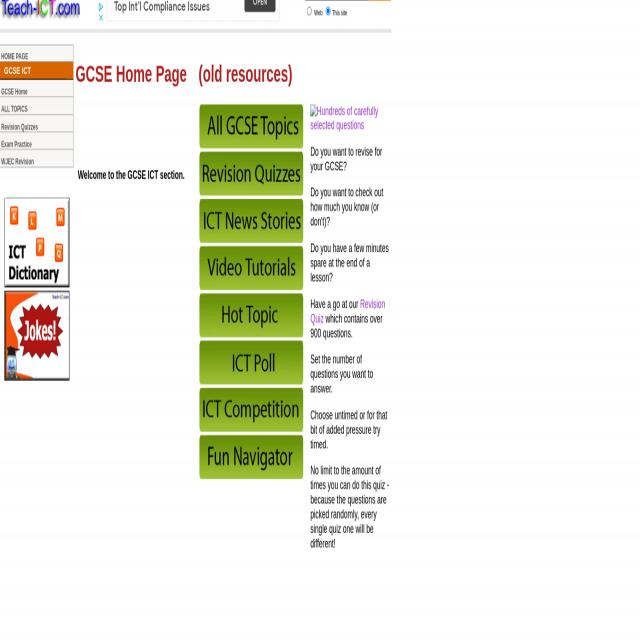button: (5, 290, 70, 382), (5, 198, 70, 288), (199, 104, 303, 148), (199, 152, 303, 196), (199, 199, 303, 243), (199, 246, 303, 290), (199, 294, 303, 338), (199, 341, 303, 385), (199, 388, 303, 432), (199, 436, 303, 480), (310, 104, 392, 132), (0, 0, 84, 24), (0, 44, 74, 62), (0, 62, 74, 80), (0, 80, 74, 98), (0, 97, 74, 115), (0, 115, 74, 133), (0, 132, 74, 150), (0, 150, 74, 168), (244, 0, 276, 12), (98, 13, 104, 22), (98, 2, 104, 11)
field: (306, 6, 312, 16), (325, 6, 331, 16)
